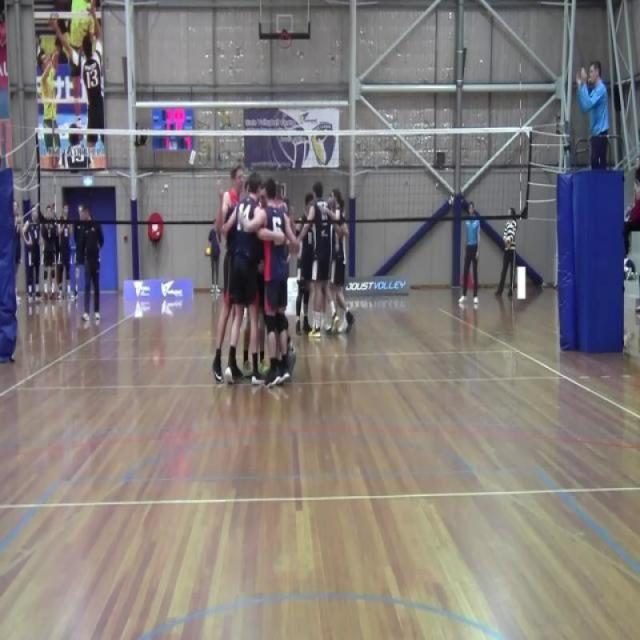volleyball: (204, 244, 212, 260)
